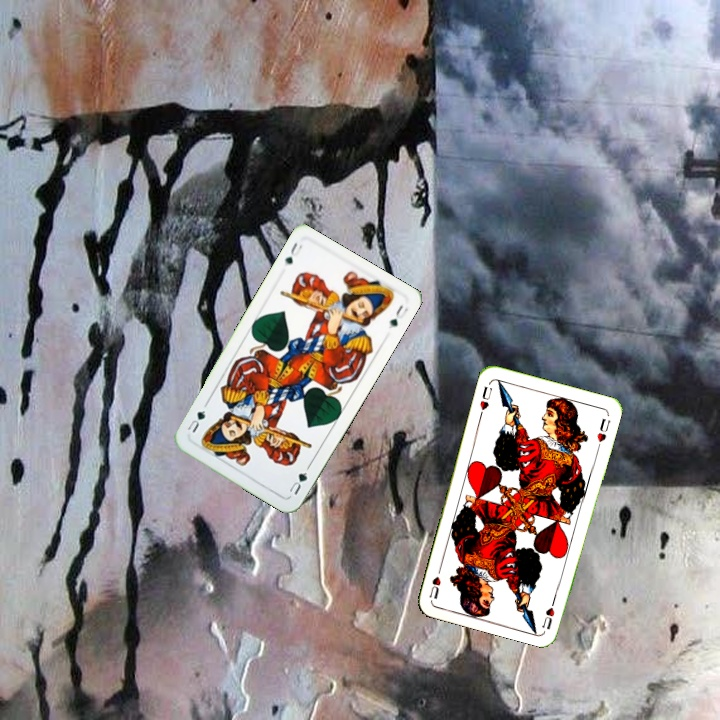GU: (280, 238, 305, 269), (285, 468, 310, 497)
HU: (539, 592, 559, 632), (476, 382, 495, 413)
